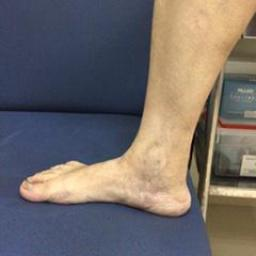Medial View -Right Foot-: (16, 123, 198, 225)
